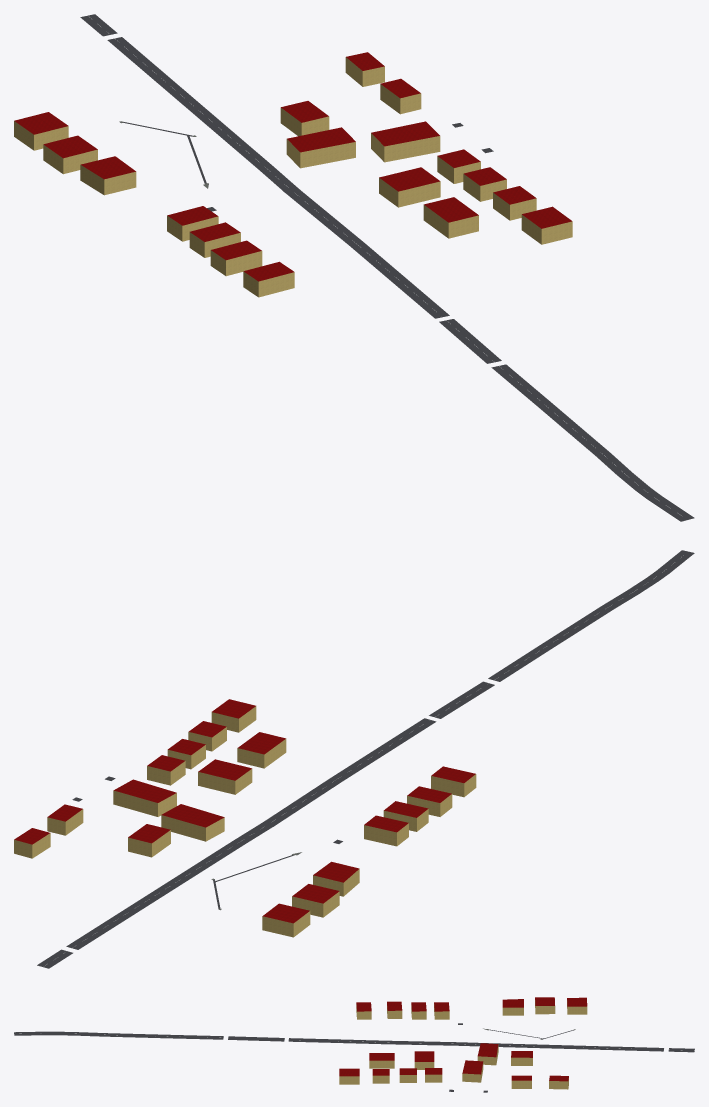
The model's file is district_-1_1.glb.
3 views of the same model, one above another, from view 1: azimuth 30°, elevation 25°; view 2: azimuth 150°, elevation 25°; view 3: azimuth 270°, elevation 25° (orthographic). The views are drawn at different scales.
Visible parts, largest first — view 1: Road Илекская улица, Building w624466143, Building w626198764, Building w44036227, Building w44036202, Building w44036266, Building w44036288, Building w44036303, Building w44036205, Building w44036216, Building w44036197, Building w625363635 (+7 smaller); view 2: Road Илекская улица, Building w626198764, Building w624466143, Building w44036227, Building w44036202, Building w44036303, Building w44036288, Building w44036266, Building w44036205, Building w625363635, Building w44036238, Building w44036197 (+7 smaller); view 3: Road Илекская улица, Building w626198764, Building w624466143, Building w44036202, Building w44036227, Building w44036266, Building w44036288, Building w44036303, Building w44036205, Building w625363635, Building w44036271, Building w625363634 (+7 smaller).
Boxes of the visible parts, left/top/right/bottom form: Road Илекская улица: left=80, top=14, right=694, bottom=521; Building w624466143: left=286, top=127, right=355, bottom=168; Building w626198764: left=371, top=121, right=440, bottom=162; Building w44036227: left=379, top=167, right=440, bottom=207; Building w44036202: left=423, top=197, right=478, bottom=238; Building w44036266: left=80, top=156, right=136, bottom=195; Building w44036288: left=43, top=135, right=97, bottom=174; Building w44036303: left=14, top=112, right=68, bottom=150; Building w44036205: left=521, top=206, right=572, bottom=244; Building w44036216: left=210, top=240, right=262, bottom=276; Building w44036197: left=243, top=261, right=294, bottom=297; Building w625363635: left=280, top=101, right=329, bottom=136; Road Илекская улица: left=37, top=550, right=694, bottom=968; Building w626198764: left=113, top=779, right=176, bottom=816; Building w624466143: left=161, top=804, right=224, bottom=841; Building w44036227: left=198, top=759, right=252, bottom=794; Building w44036202: left=237, top=732, right=286, bottom=768; Building w44036303: left=262, top=903, right=310, bottom=937; Building w44036288: left=292, top=884, right=339, bottom=917; Building w44036266: left=313, top=861, right=359, bottom=896; Building w44036205: left=211, top=699, right=256, bottom=732; Building w625363635: left=128, top=824, right=170, bottom=857; Building w44036238: left=364, top=815, right=408, bottom=846; Building w44036197: left=431, top=766, right=476, bottom=797; Road Илекская улица: left=14, top=1031, right=694, bottom=1052; Building w626198764: left=462, top=1060, right=483, bottom=1082; Building w624466143: left=477, top=1043, right=498, bottom=1065; Building w44036202: left=369, top=1053, right=394, bottom=1068; Building w44036227: left=414, top=1051, right=434, bottom=1069; Building w44036266: left=502, top=999, right=523, bottom=1015; Building w44036288: left=535, top=997, right=555, bottom=1014; Building w44036303: left=567, top=997, right=587, bottom=1014; Building w44036205: left=339, top=1068, right=359, bottom=1084; Building w625363635: left=511, top=1051, right=532, bottom=1065; Building w44036271: left=511, top=1075, right=531, bottom=1088; Building w625363634: left=549, top=1075, right=568, bottom=1089.
Size of the model in its own units: 173 by 7.5 by 568.
Materials: 5 (5 with a texture image).
